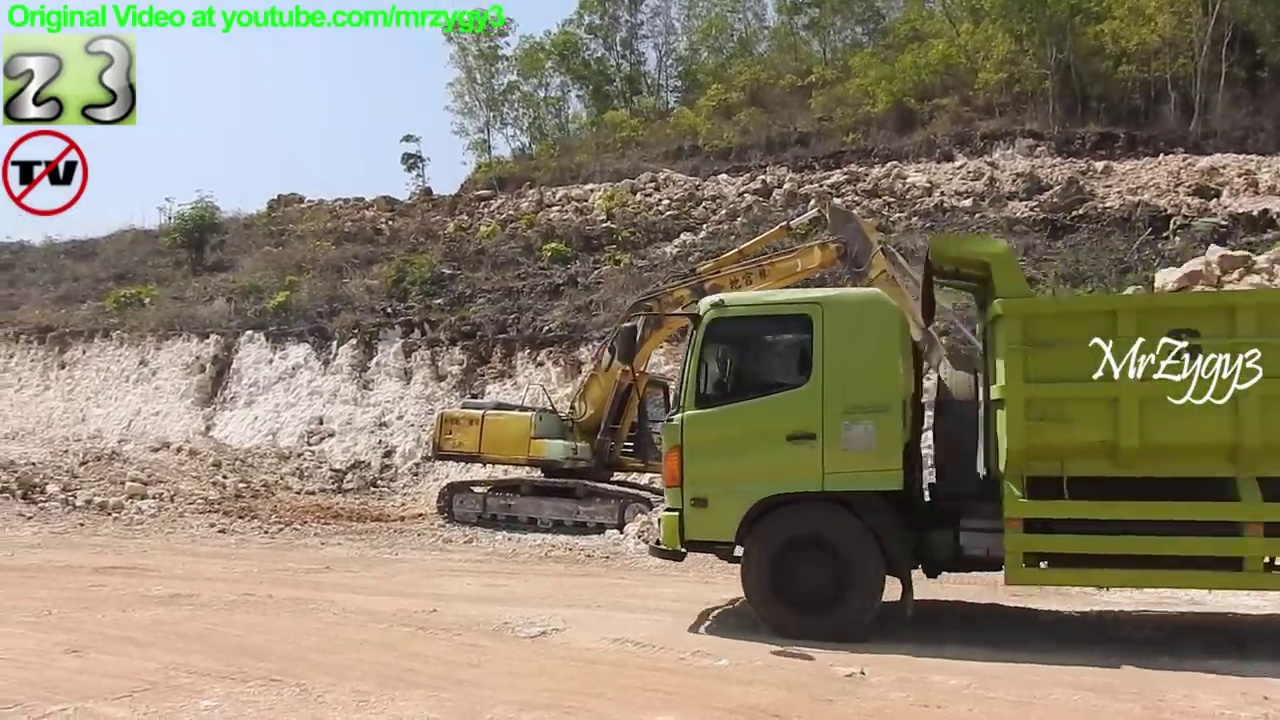excavator: (424, 188, 1013, 545)
truck: (596, 227, 1280, 644)
